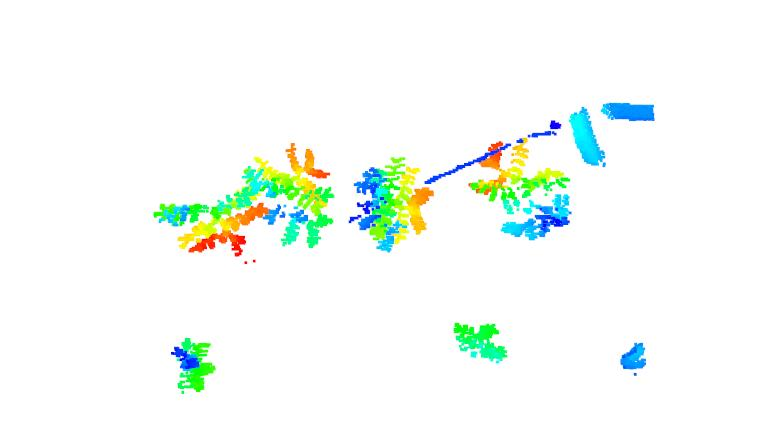chickpea: (468, 139, 573, 244), (249, 144, 335, 249), (351, 157, 433, 257), (153, 182, 257, 256), (453, 321, 515, 367), (169, 337, 216, 393)
